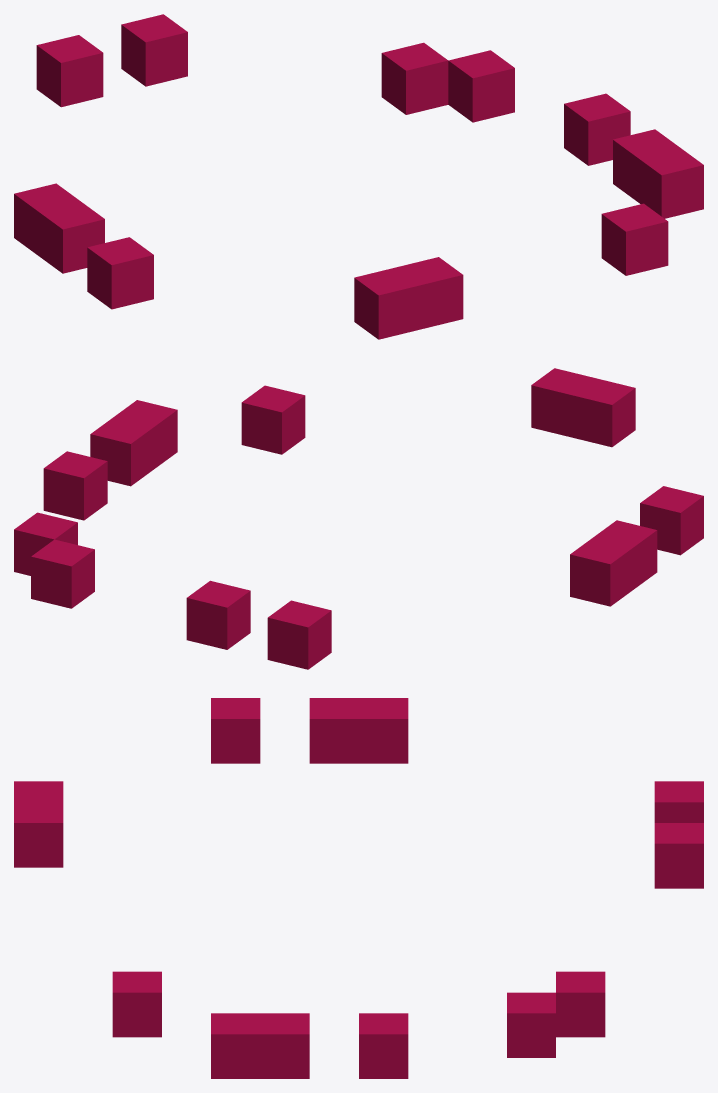
Rendered from luzsaturno-rosa2.obj.
The picture shows the model from 3 angles, top to bottom: view 1: azimuth 30°, elevation 25°; view 2: azimuth 150°, elevation 25°; view 3: azimuth 270°, elevation 25°; orthographic projection. The views are drawn at different scales.
Bounding box in the file's own units: 1.4 × 0.2 × 1.4.
1 material, 1 textured.
